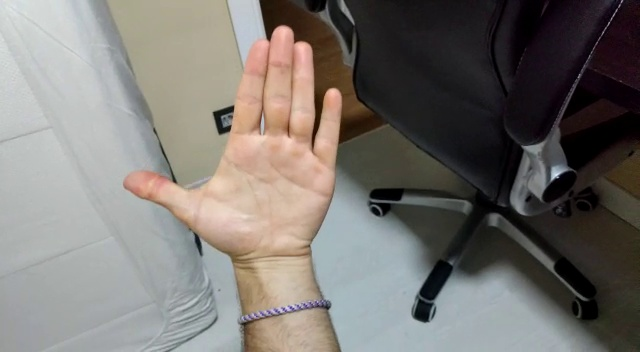Palm: (121, 20, 343, 280)
